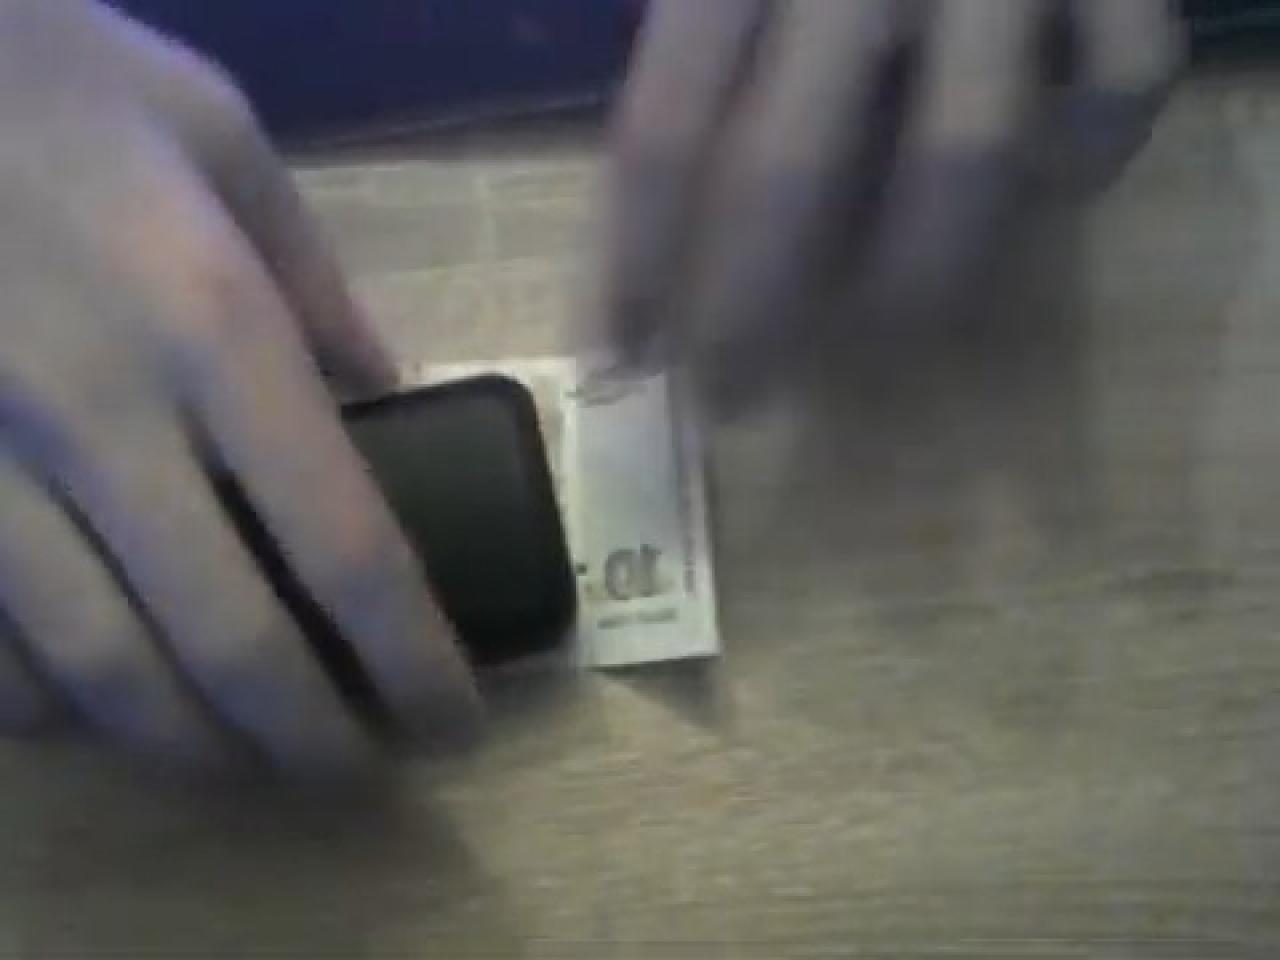10leva: (549, 373, 723, 672)
